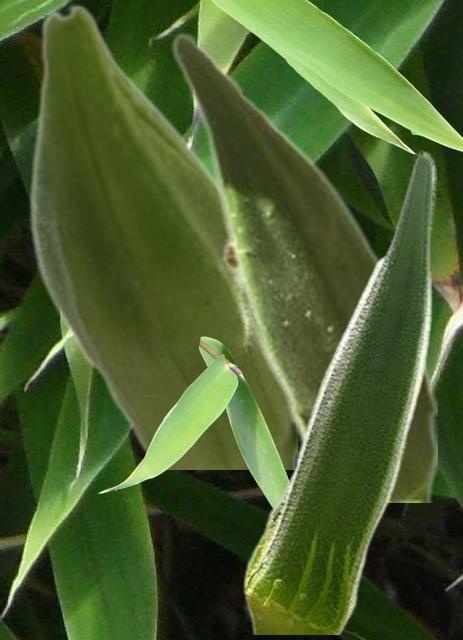okra: (170, 30, 436, 501), (28, 3, 296, 468), (242, 149, 435, 633)
